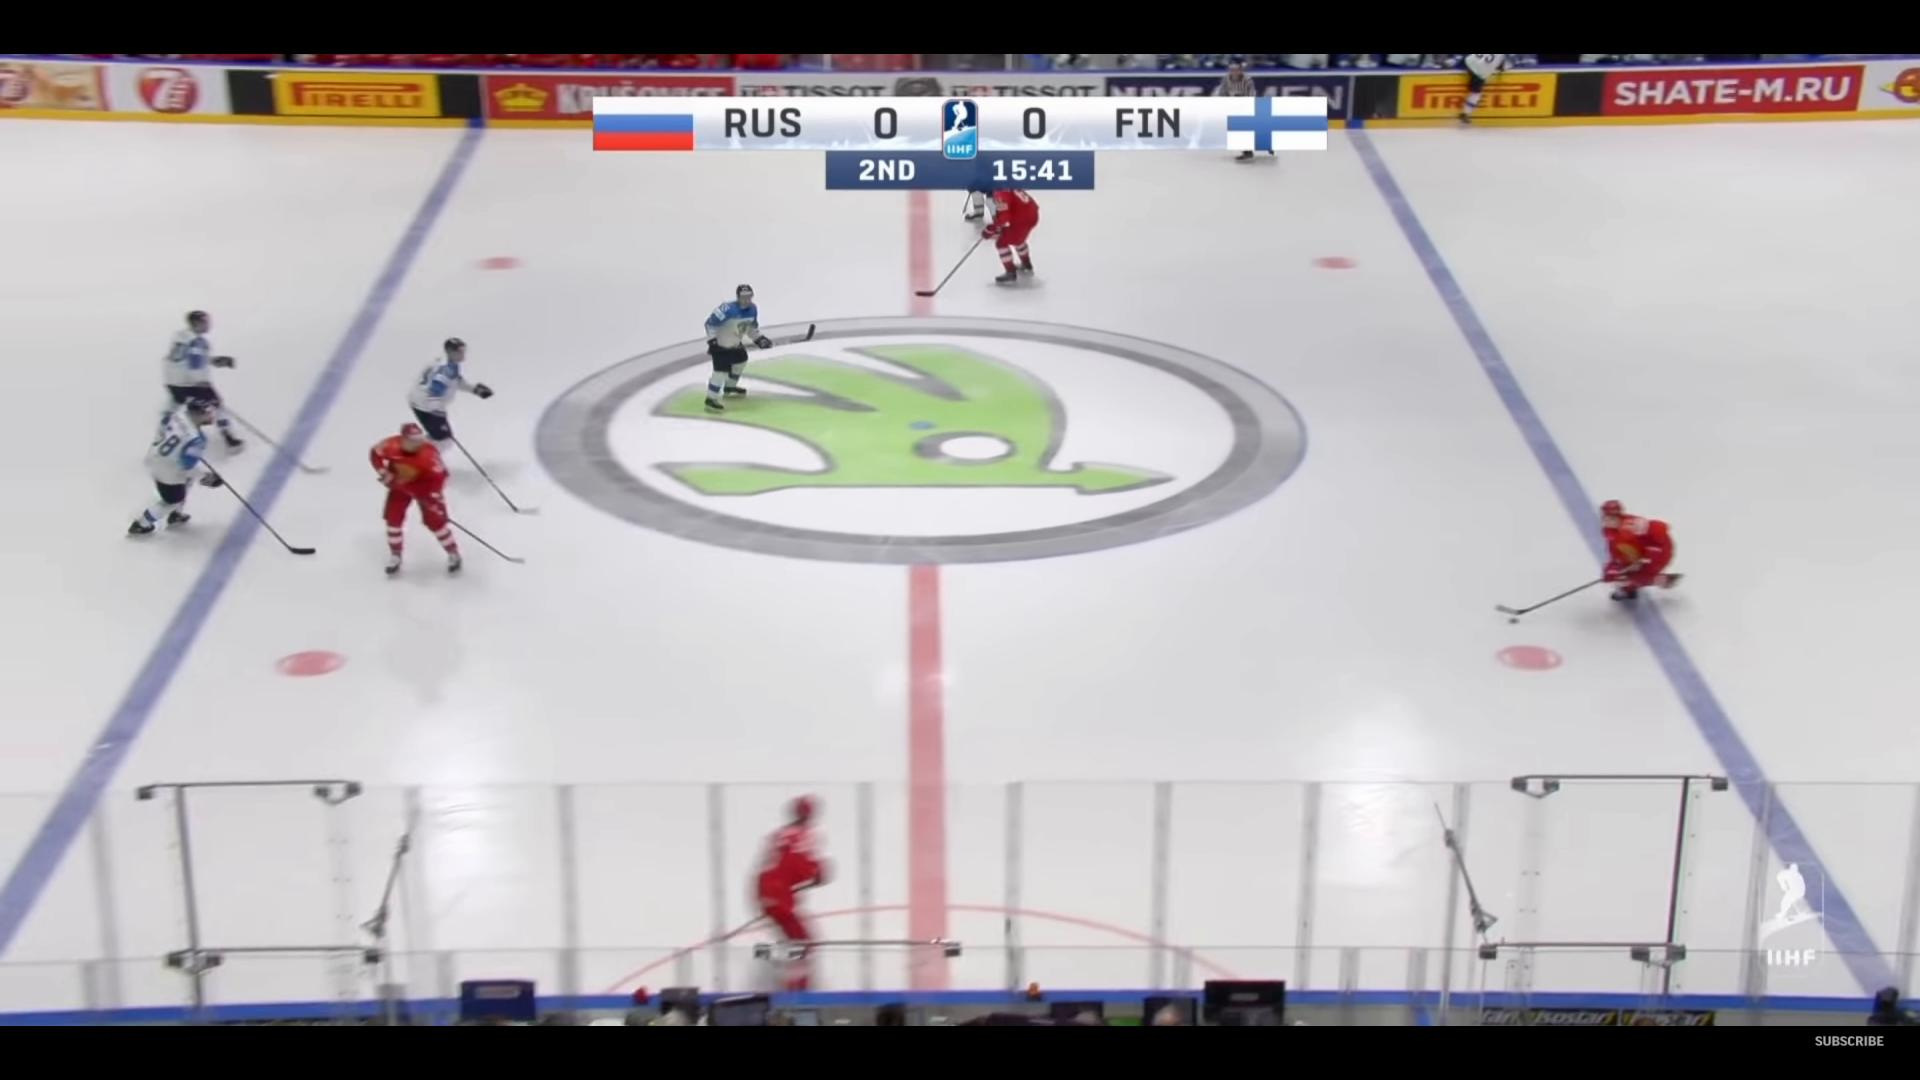puck: (1507, 618, 1518, 622)
